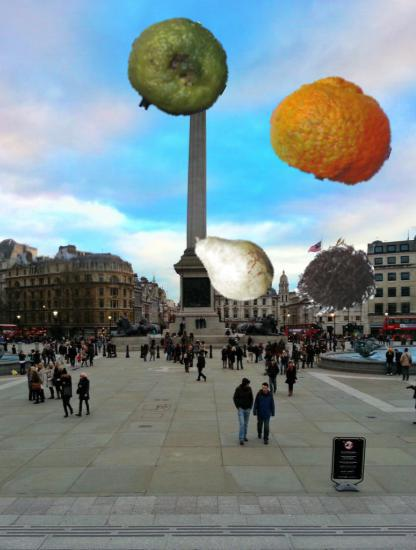Limes: (126, 17, 229, 120)
Mandarine: (270, 67, 395, 192)
Pear: (186, 218, 279, 311)
Rambutan: (293, 237, 376, 320)
